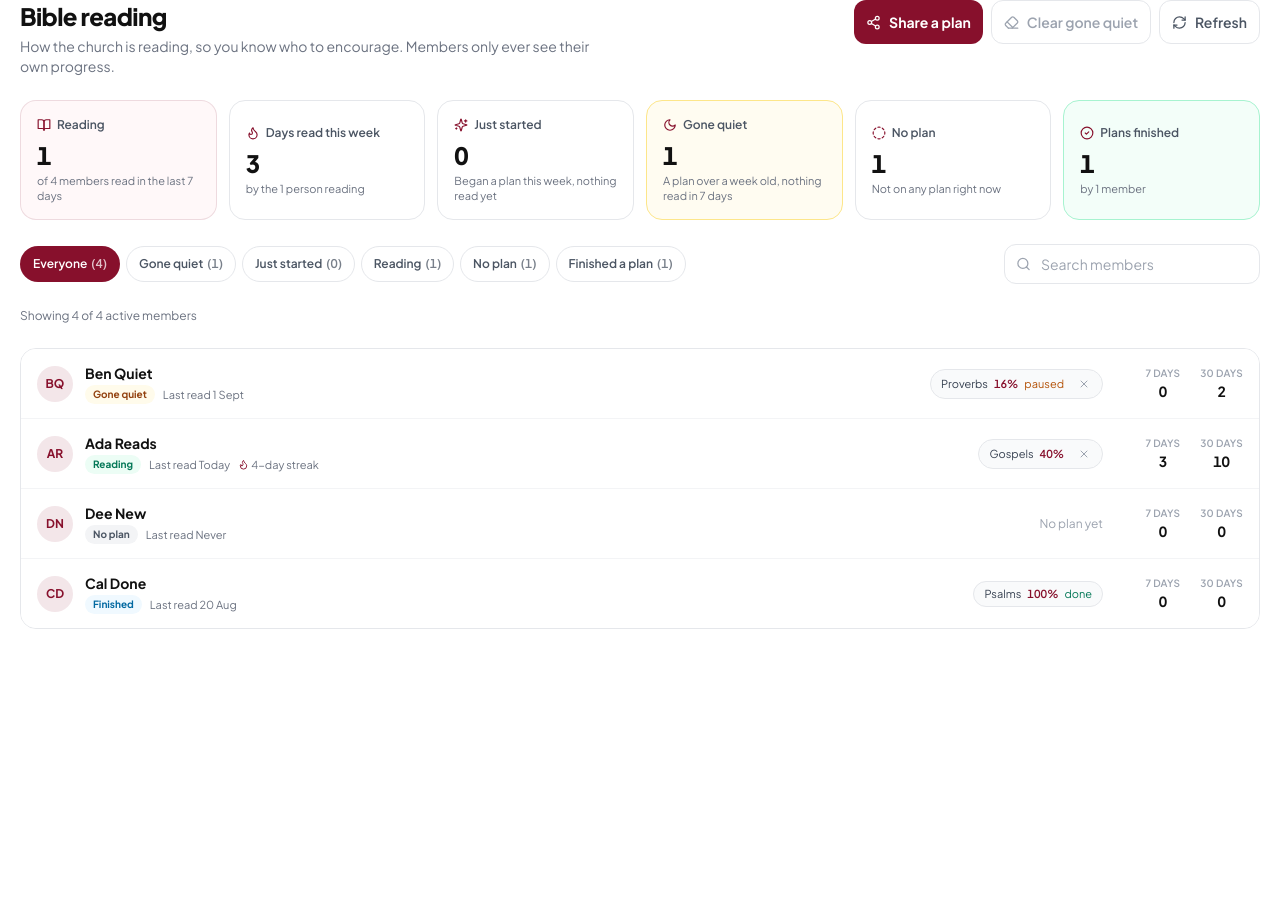
Test: ReadingMonitor › shares a chosen reading plan from the admin page
Click the button "Share a plan" at (918, 22), box [854,0,983,44]
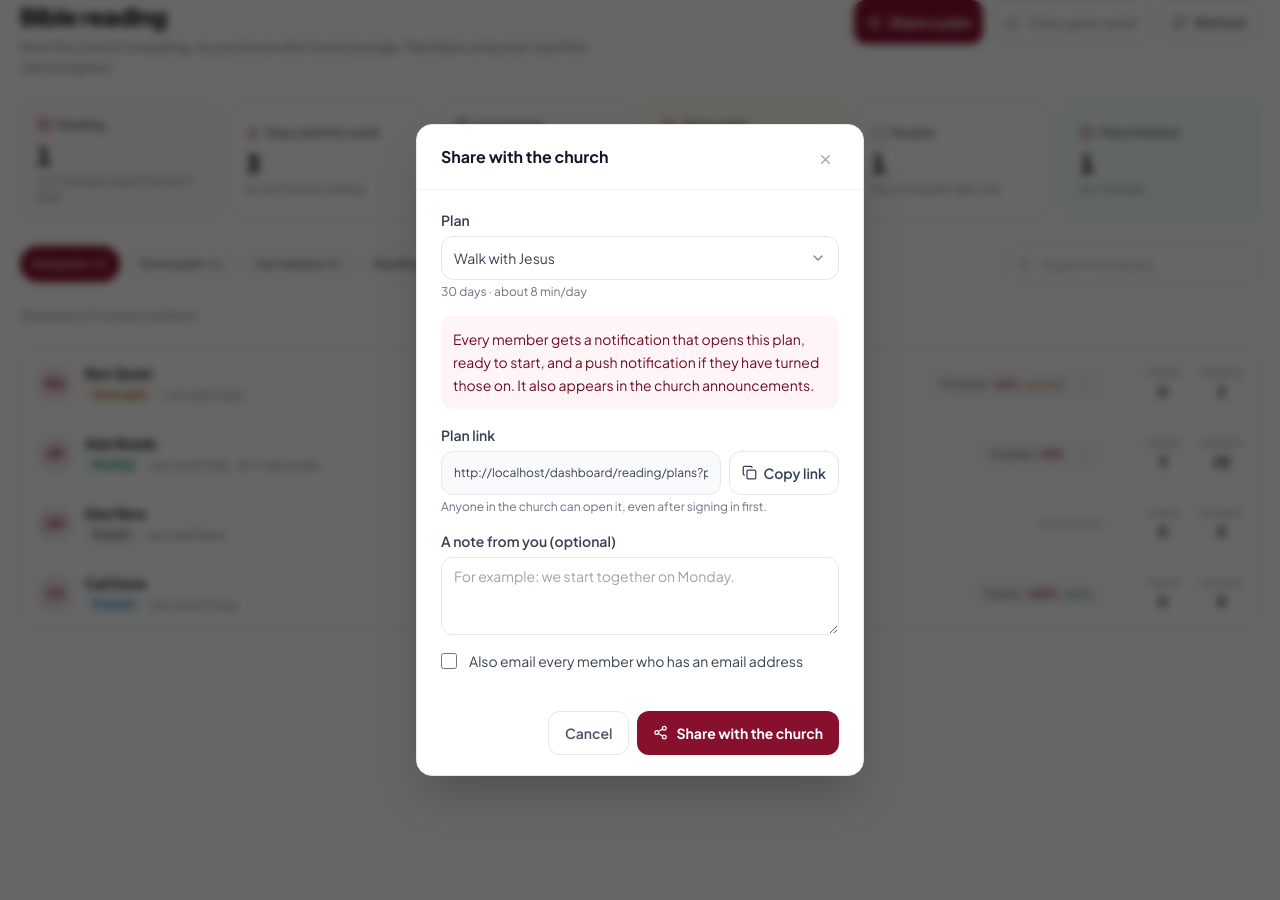
Click the dropdown named "Plan" at (504, 258), box [441,236,839,280]
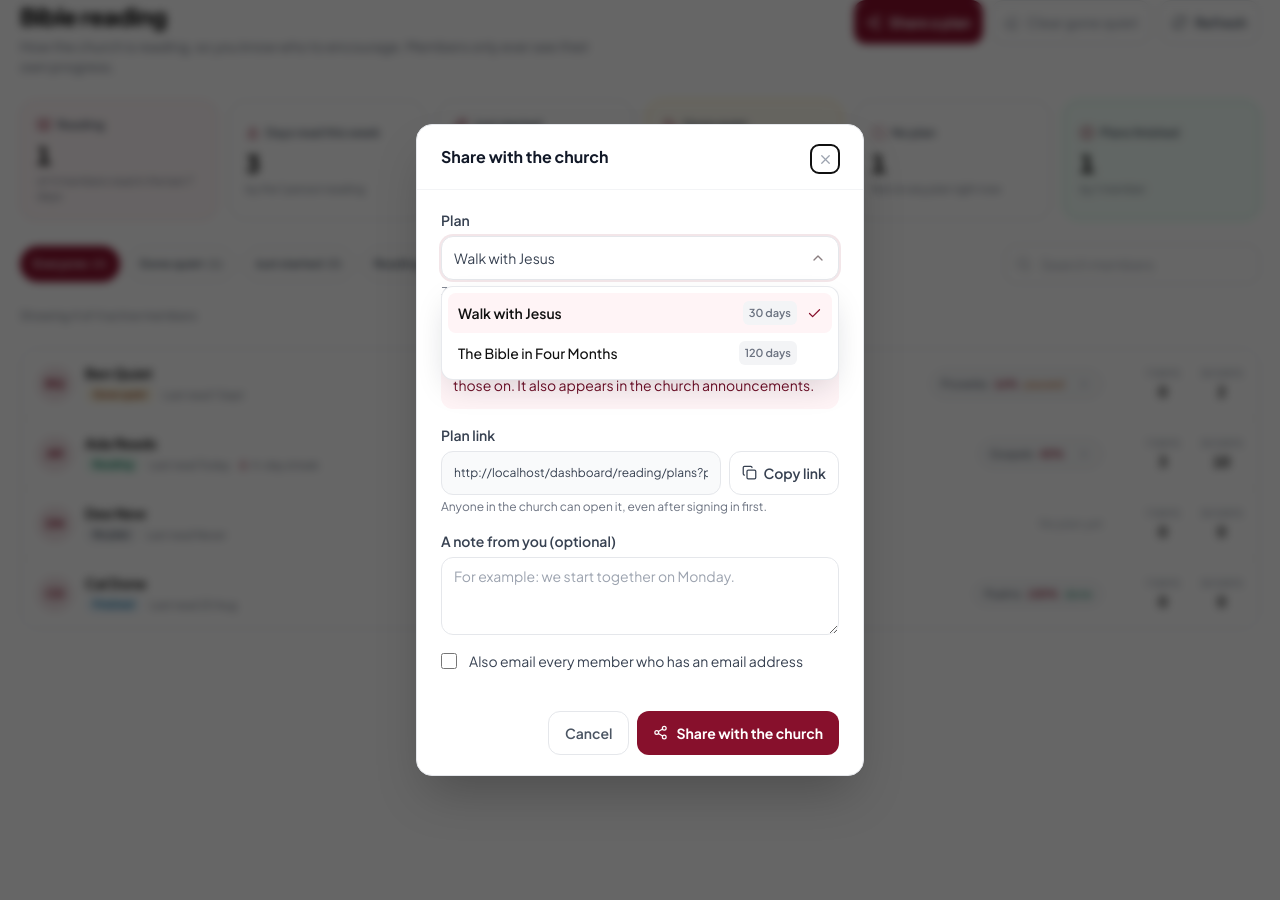
Click the option "The Bible in Four Months 120 days" at (538, 353), box [448,333,832,373]
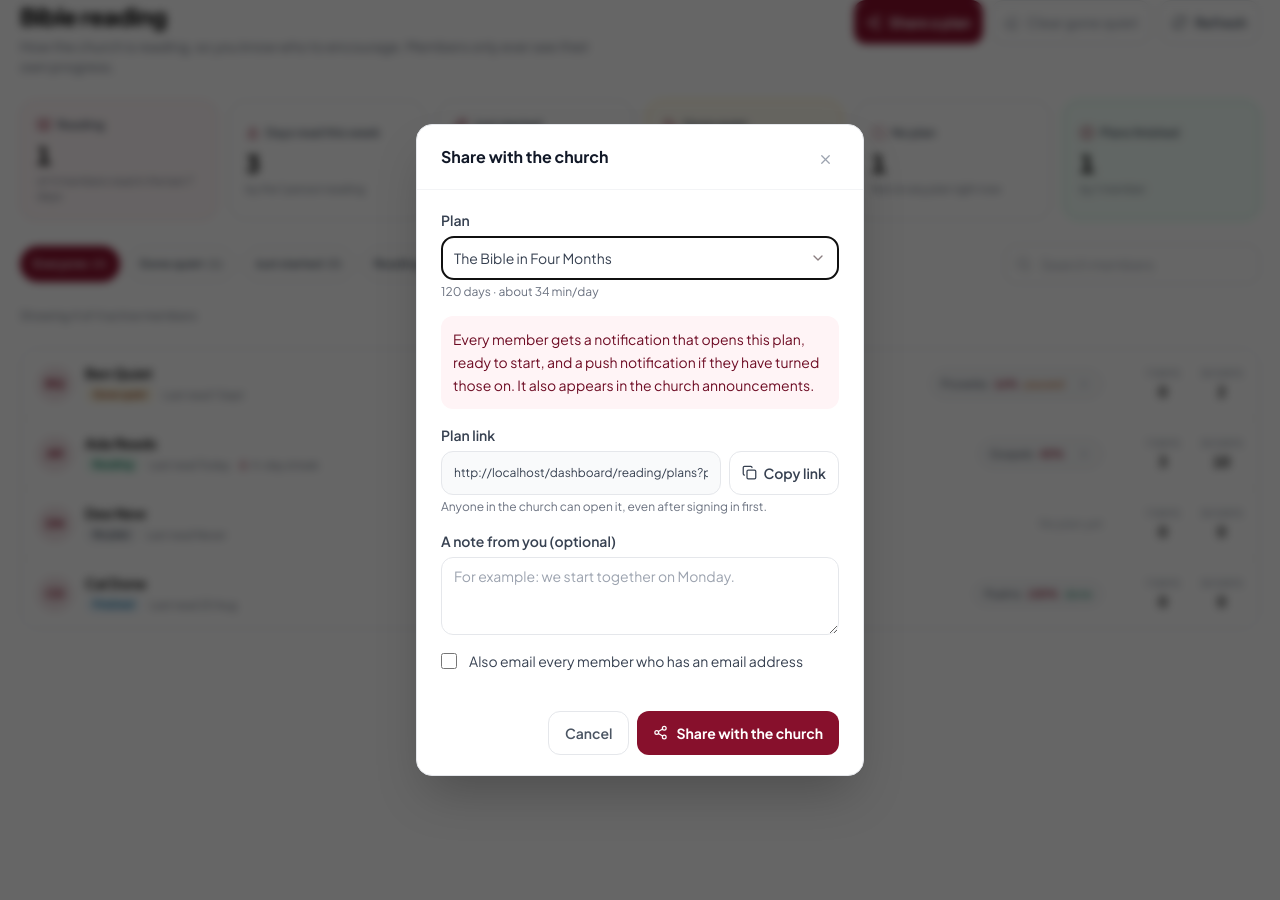
Type "We begin together on Monday." into the text box labelled "A note from you (optional)" at (640, 596), box [441,557,839,635]
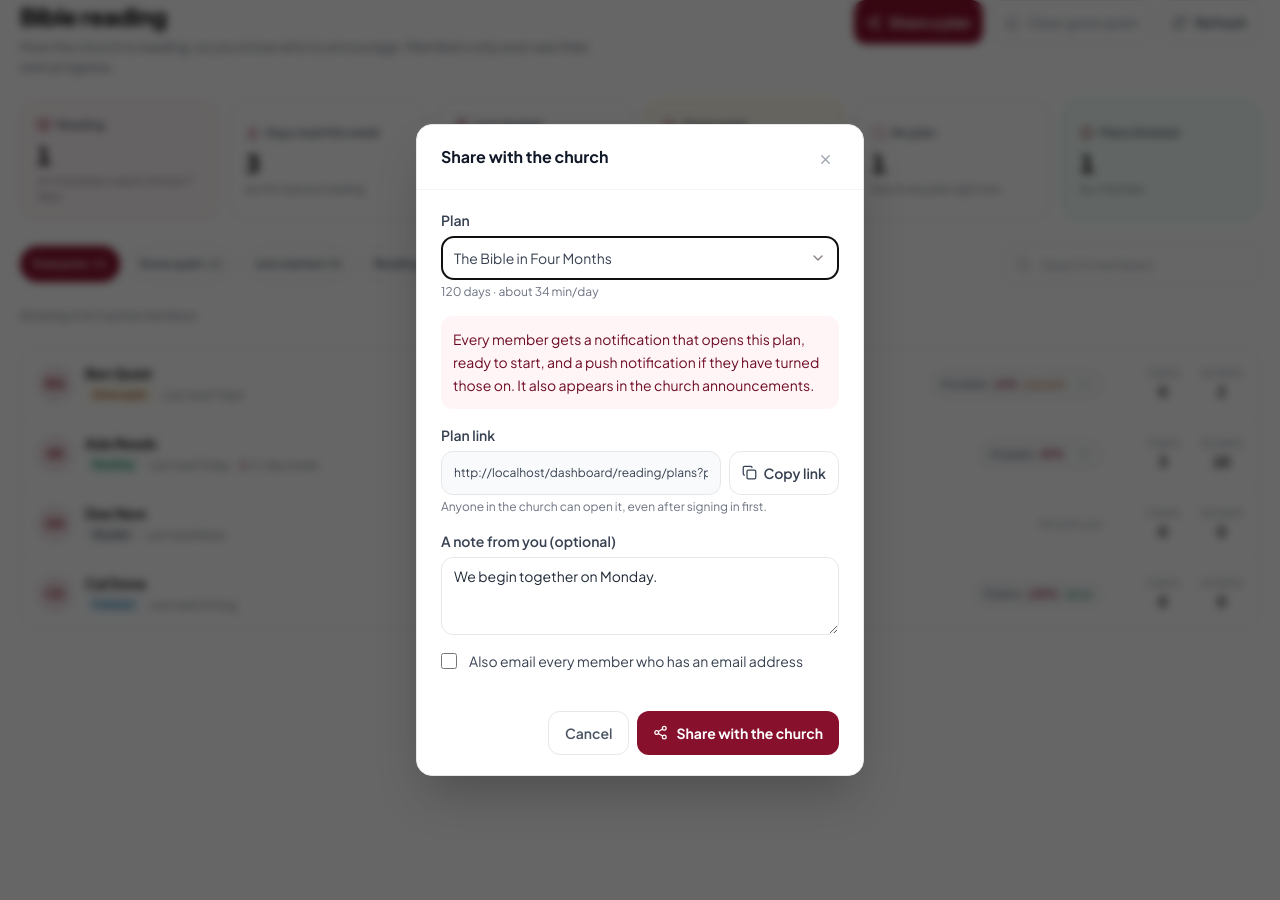
Click the button "Share with the church" at (738, 733), box [637,711,839,755]
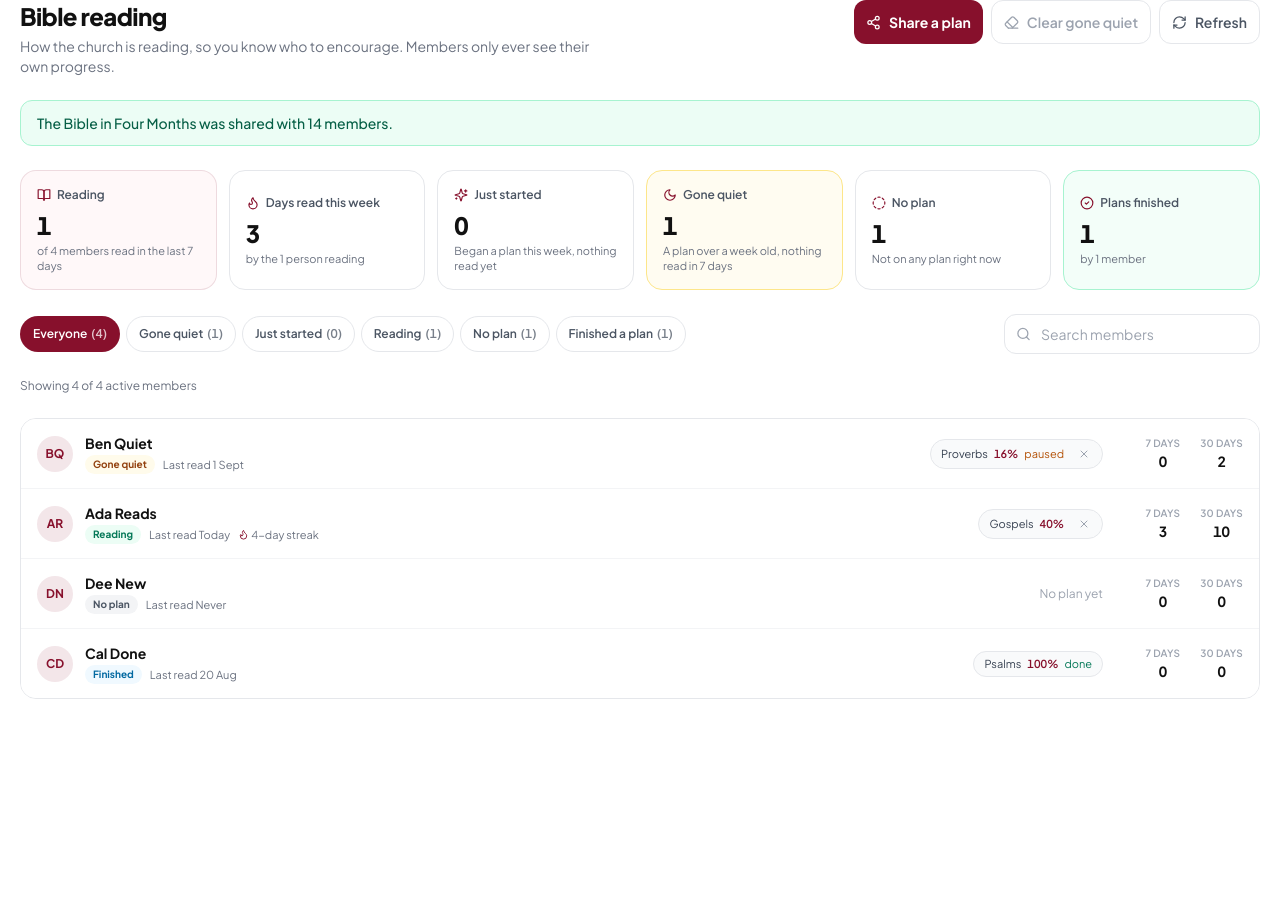
Expected: the text "The Bible in Four Months was shared with 14 members." is shown, [20,100,1260,146]
